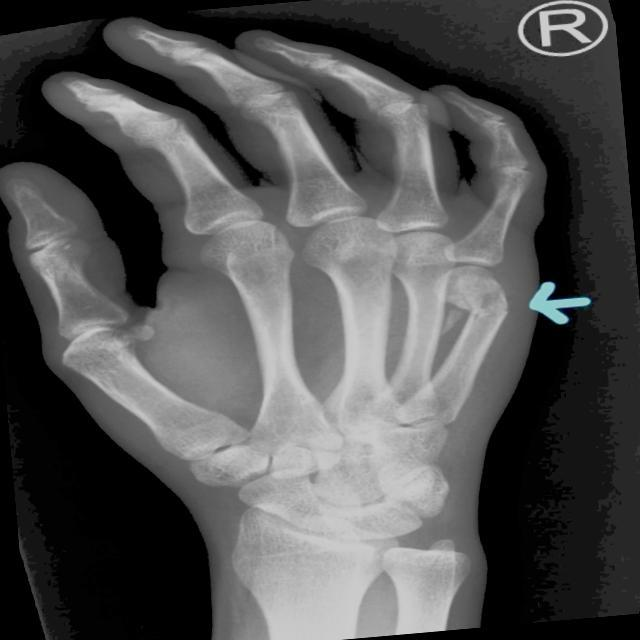Impact Fracture: (445, 262, 512, 328)
